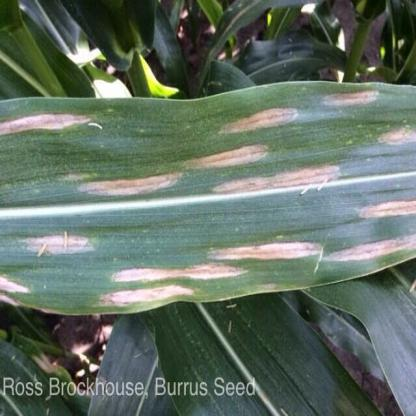Corn leaf blight: (3, 76, 415, 312)
